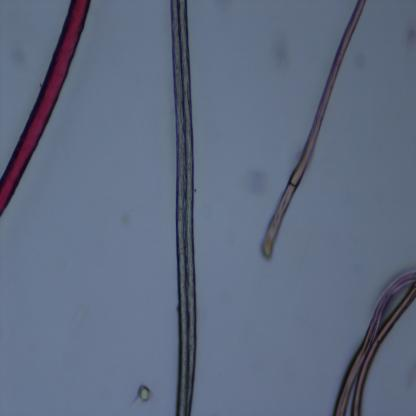Background material: (269, 29, 292, 74), (126, 377, 156, 408), (245, 166, 272, 198), (350, 50, 366, 69), (404, 25, 416, 47)
Microfibre: (260, 0, 366, 260), (0, 0, 92, 215), (334, 272, 416, 414), (169, 0, 197, 414)
